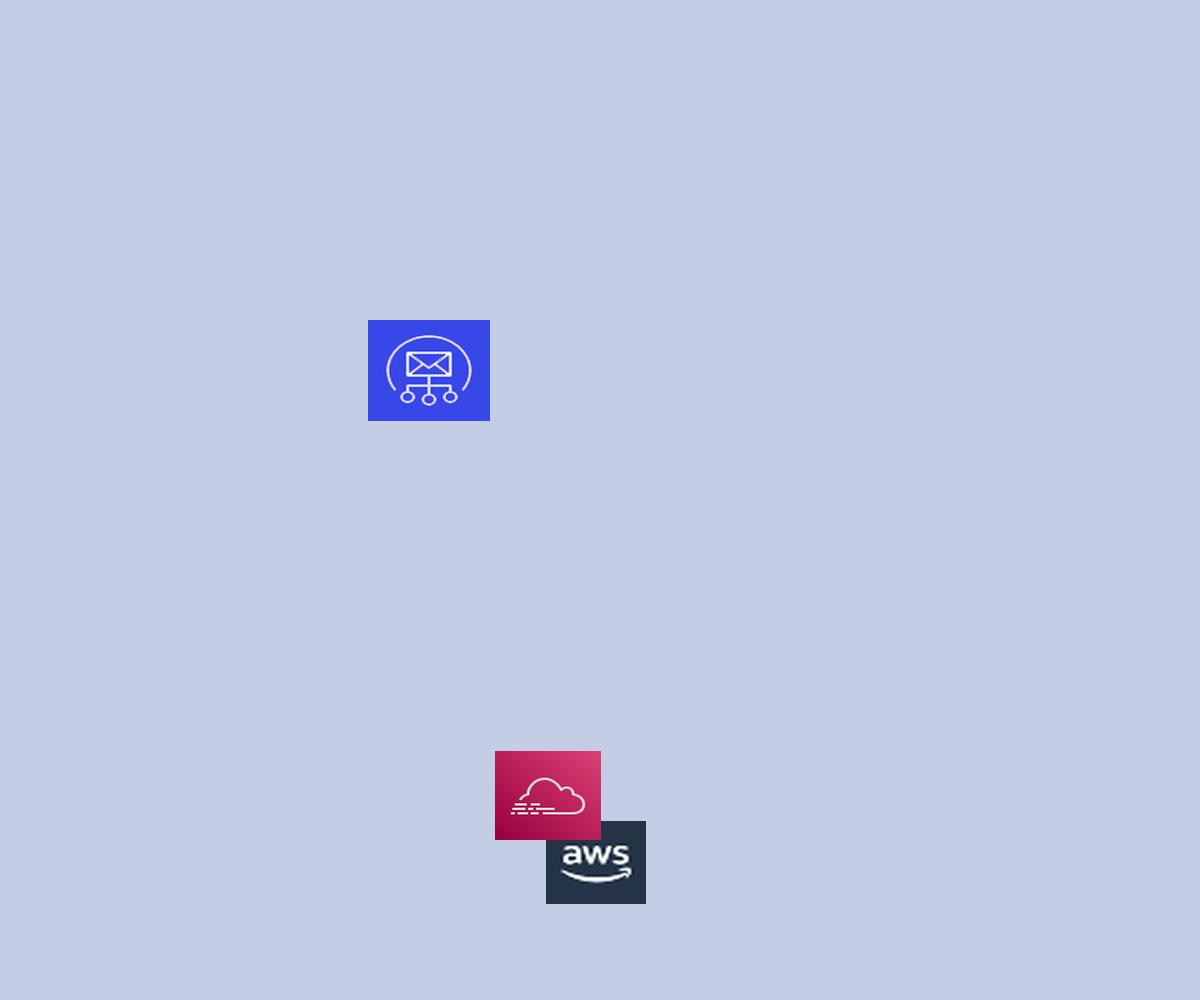AWS-Cloud-logo: (546, 821, 646, 904)
AWS-CloudTrail: (495, 751, 601, 840)
AWS-Simple-Email-Service: (368, 320, 490, 421)
